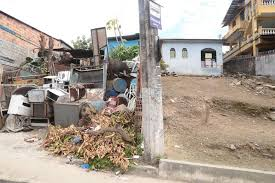rubble: (6, 47, 149, 126)
